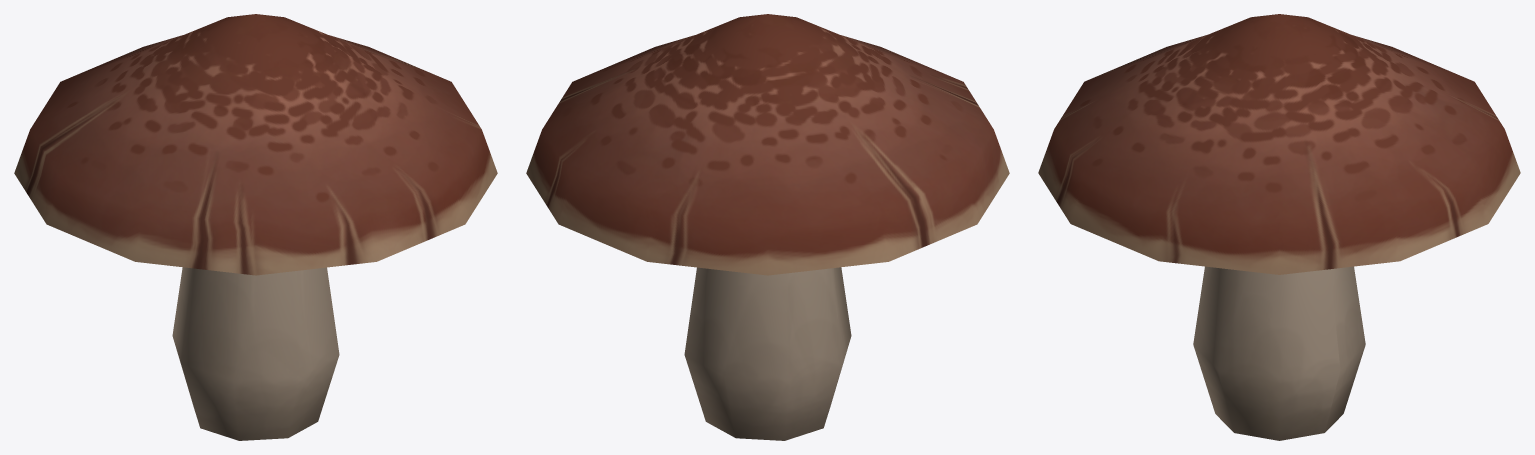
Rendered from Mushroom4A.fbx.
3 views of the same model, side by side, from view 1: azimuth 30°, elevation 25°; view 2: azimuth 150°, elevation 25°; view 3: azimuth 270°, elevation 25° (orthographic).
Visible parts, largest first — view 1: polySurface92; view 2: polySurface92; view 3: polySurface92.
Boxes of the visible parts, box(x1,y1,x2,y2) form: polySurface92: box(14, 14, 497, 440); polySurface92: box(526, 14, 1009, 440); polySurface92: box(1038, 14, 1520, 440).
Size of the model in its own units: 49.29 by 45.02 by 49.29.
Materials: 1 (1 with a texture image).
